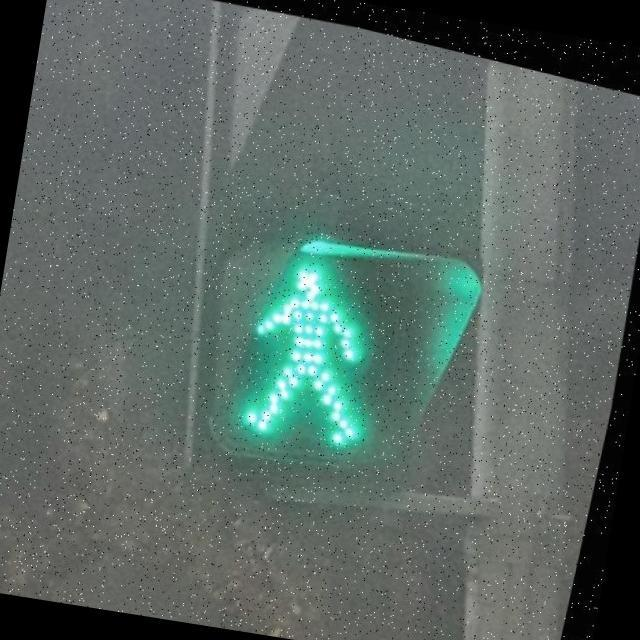greenlight: (191, 15, 468, 496)
